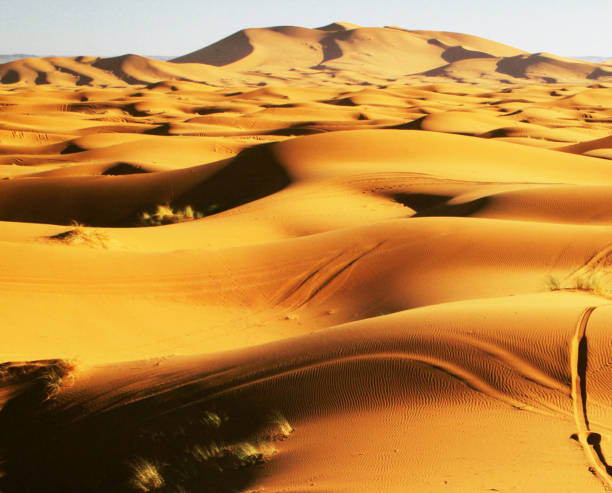vehicle_track: (155, 342, 542, 429), (570, 306, 611, 490), (275, 240, 384, 309)
